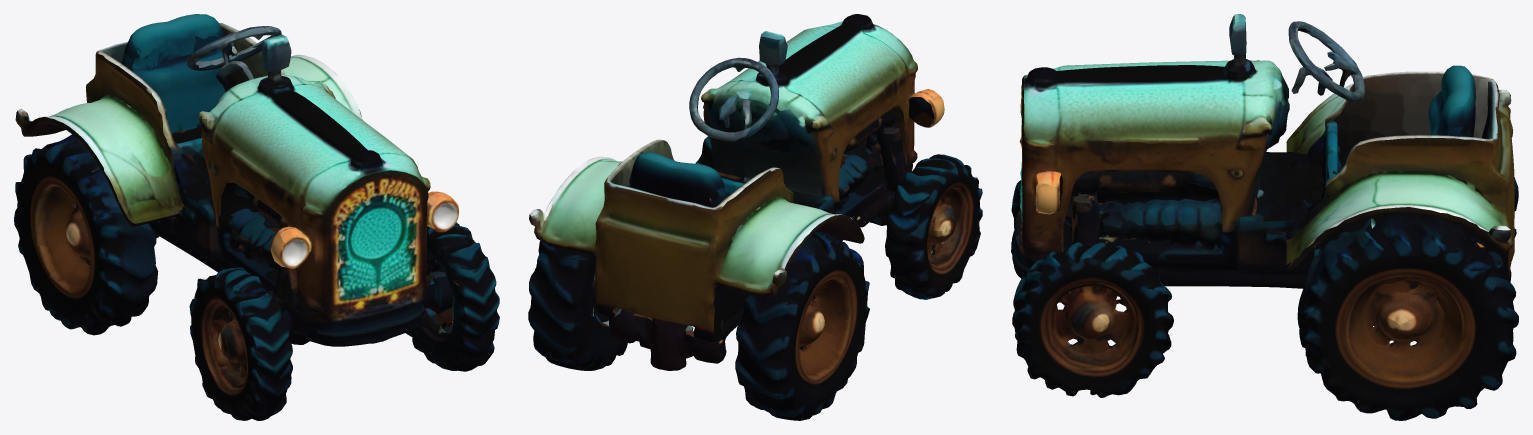
Rendered from vehicle-farm-tractor-mesh.glb.
3 renders of one model, left to right at view 1: azimuth 30°, elevation 25°; view 2: azimuth 150°, elevation 25°; view 3: azimuth 270°, elevation 25°, orthographic. The views are drawn at different scales.
Visible parts, largest first — view 1: tmplabant67.ply; view 2: tmplabant67.ply; view 3: tmplabant67.ply.
Boxes of the visible parts, box(x1,y1,x2,y2) form: tmplabant67.ply: box(14, 14, 499, 420); tmplabant67.ply: box(528, 14, 982, 420); tmplabant67.ply: box(1011, 14, 1518, 420).
Size of the model in its own units: 0.6549 by 0.7183 by 0.9743.
1 material, 1 textured.
